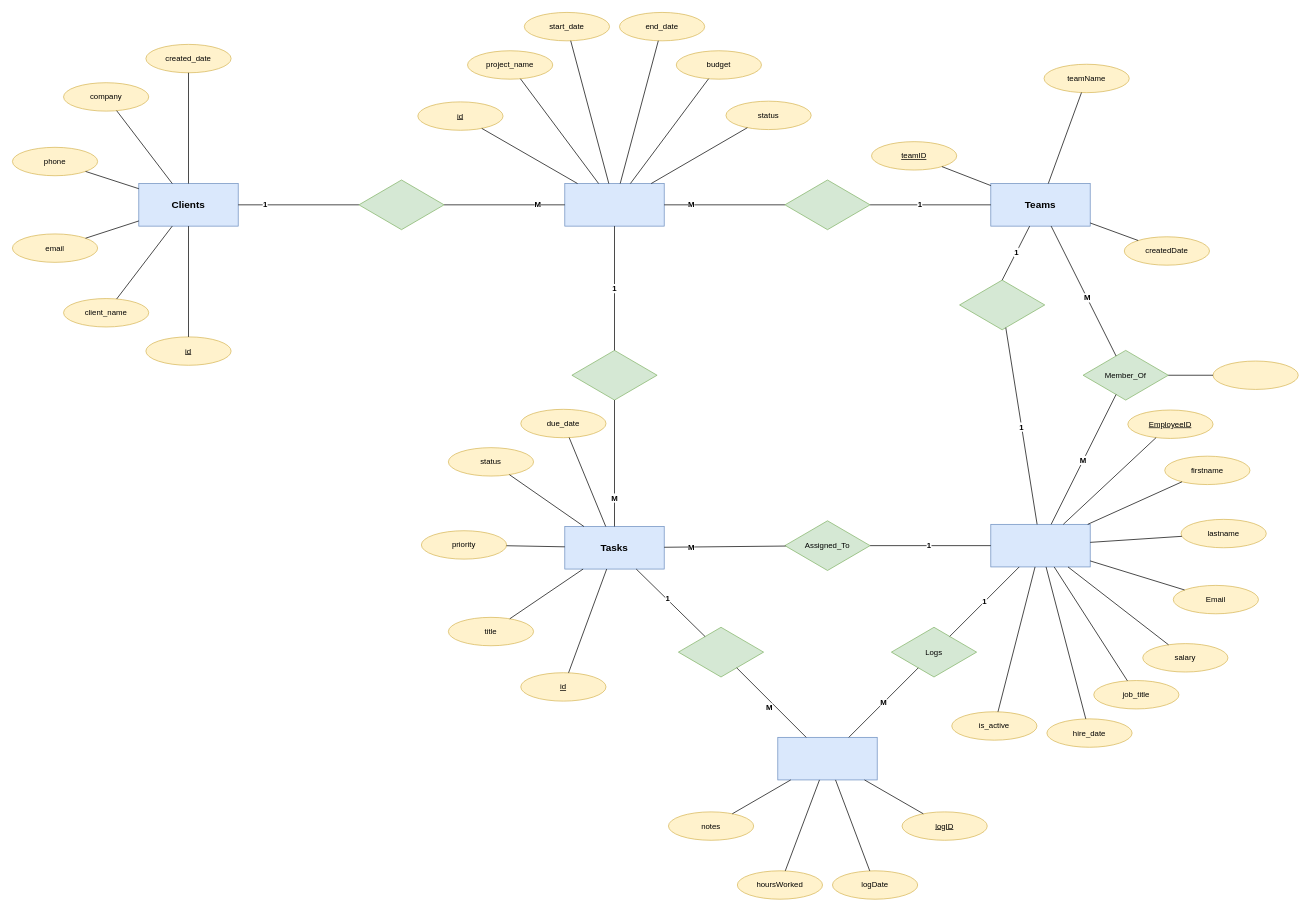
Image size: 1311x912. Some labels were removed from this diagram. Here are the shapes that lost their labels. From the top down, the centre of each, then its label:
(401,204): Has
(614,204): Projects
(827,204): Works_On
(1002,304): Leads
(614,375): Contains
(1255,374): join_date
(1040,545): Employees
(721,652): Has_Logs
(827,758): Time_Logs
